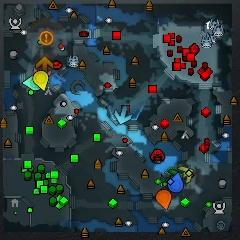Other: (39, 31, 54, 46)
p1: (167, 173, 183, 193)
p2: (23, 75, 41, 91)
p4: (33, 70, 49, 91)
p5: (156, 189, 172, 210)
x1: (34, 65, 52, 76)
x2: (179, 166, 193, 184)
x3: (114, 106, 132, 125)
x4: (167, 168, 180, 176)
x5: (35, 56, 53, 72)
